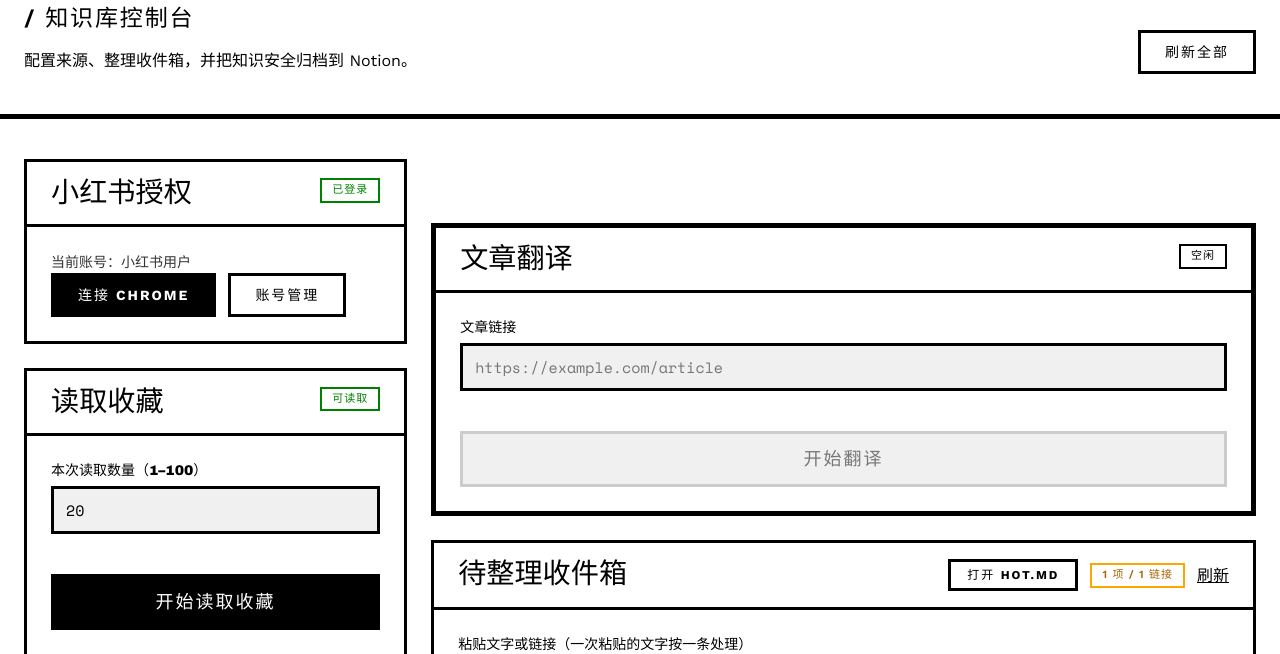
it: Knowledge Console › shows explicit Xiaohongshu step, heartbeat, progress and cancellation
Click the button "开始读取收藏" at (216, 602), box 51,574 -> 380,630
(page scrolled)
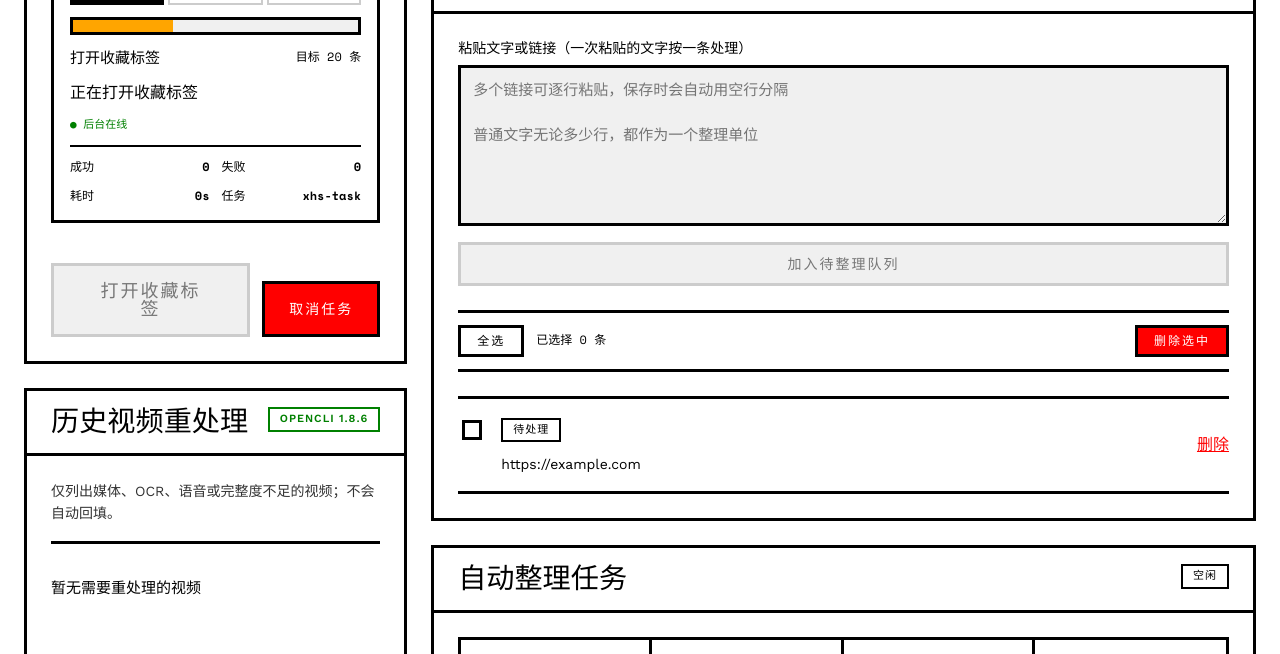
Result: the progress indicator named "收藏任务进度" is shown at 70,17 -> 361,35
Result: the text "● 后台在线" is shown at 70,117 -> 127,133
Click the button "取消任务" at (321, 309), box 262,281 -> 380,337
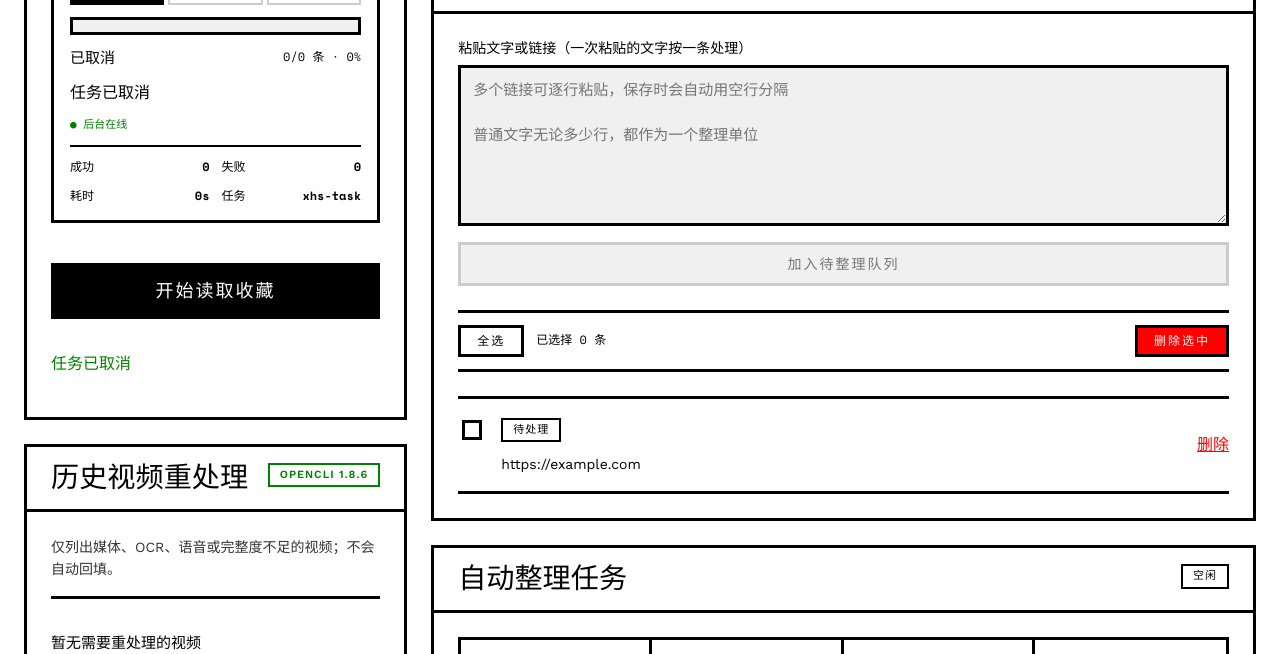
Result: the text "任务已取消" is shown at 70,83 -> 150,102
